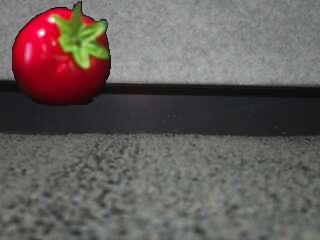Tomato: (12, 2, 112, 107)
